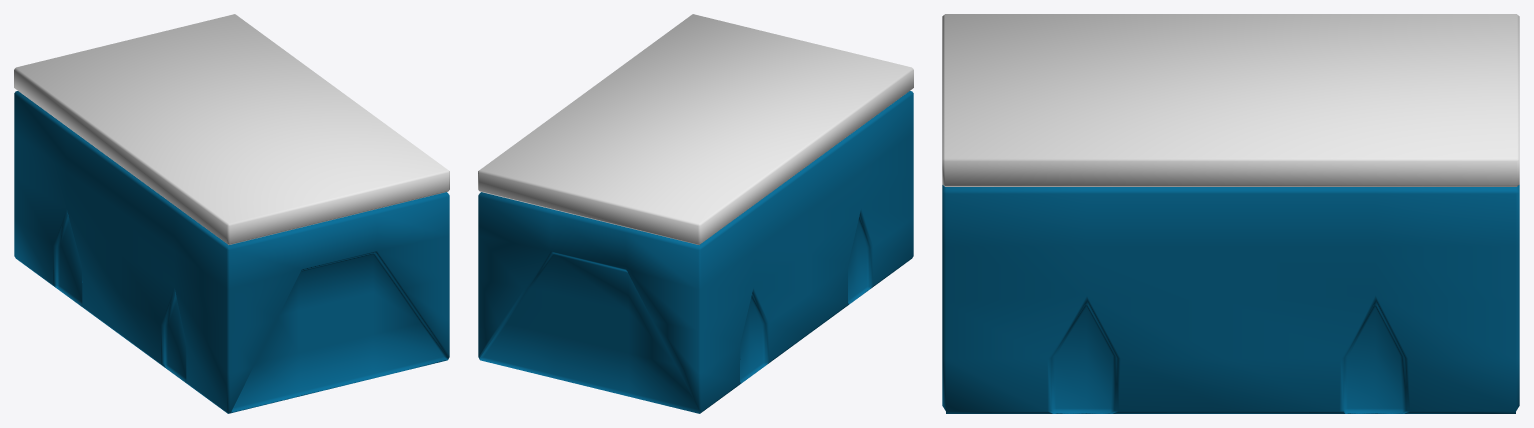
File: Fish_Box.fbx
The picture shows the model from 3 angles, left to right: view 1: azimuth 30°, elevation 25°; view 2: azimuth 150°, elevation 25°; view 3: azimuth 270°, elevation 25°; orthographic projection. The views are drawn at different scales.
Parts seen in each view (by area): view 1: Cube.307; view 2: Cube.307; view 3: Cube.307.
Part boxes in pixels (x1,y1,x2,y2): Cube.307: [14, 14, 449, 413]; Cube.307: [478, 14, 913, 413]; Cube.307: [942, 14, 1519, 413].
Size of the model in its own units: 120 by 97.88 by 200.
